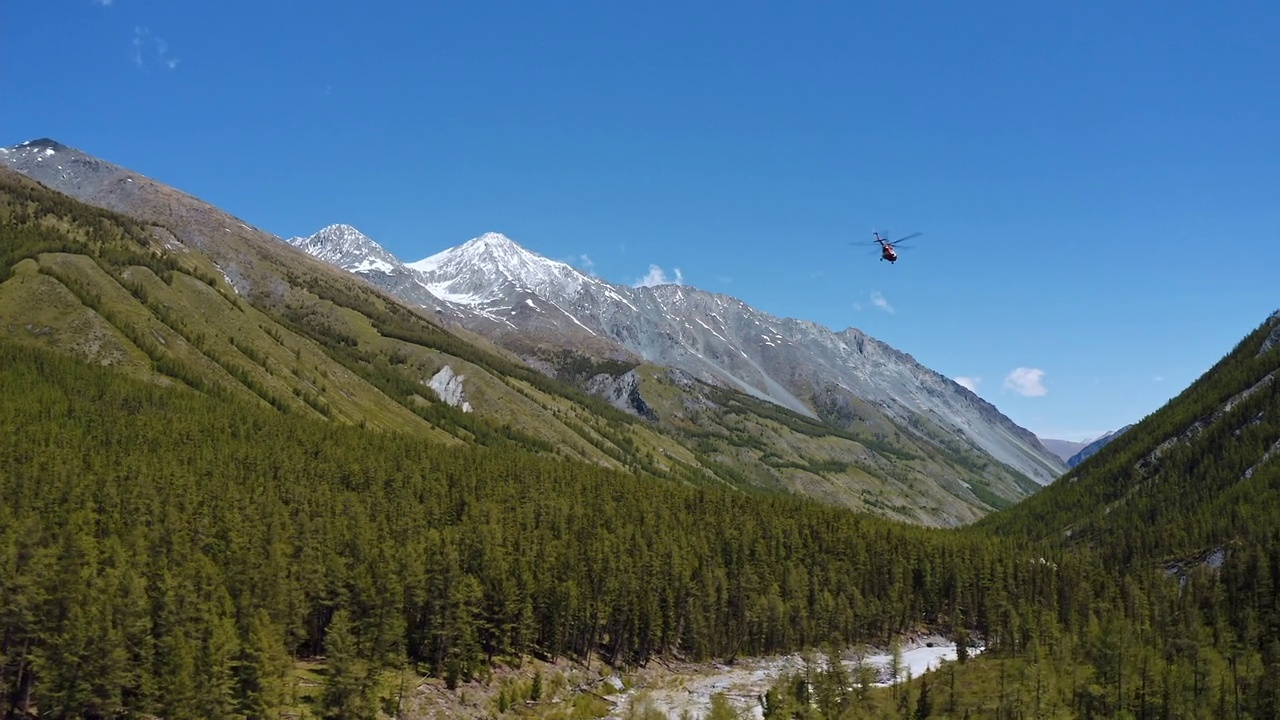heli: (852, 228, 924, 264)
